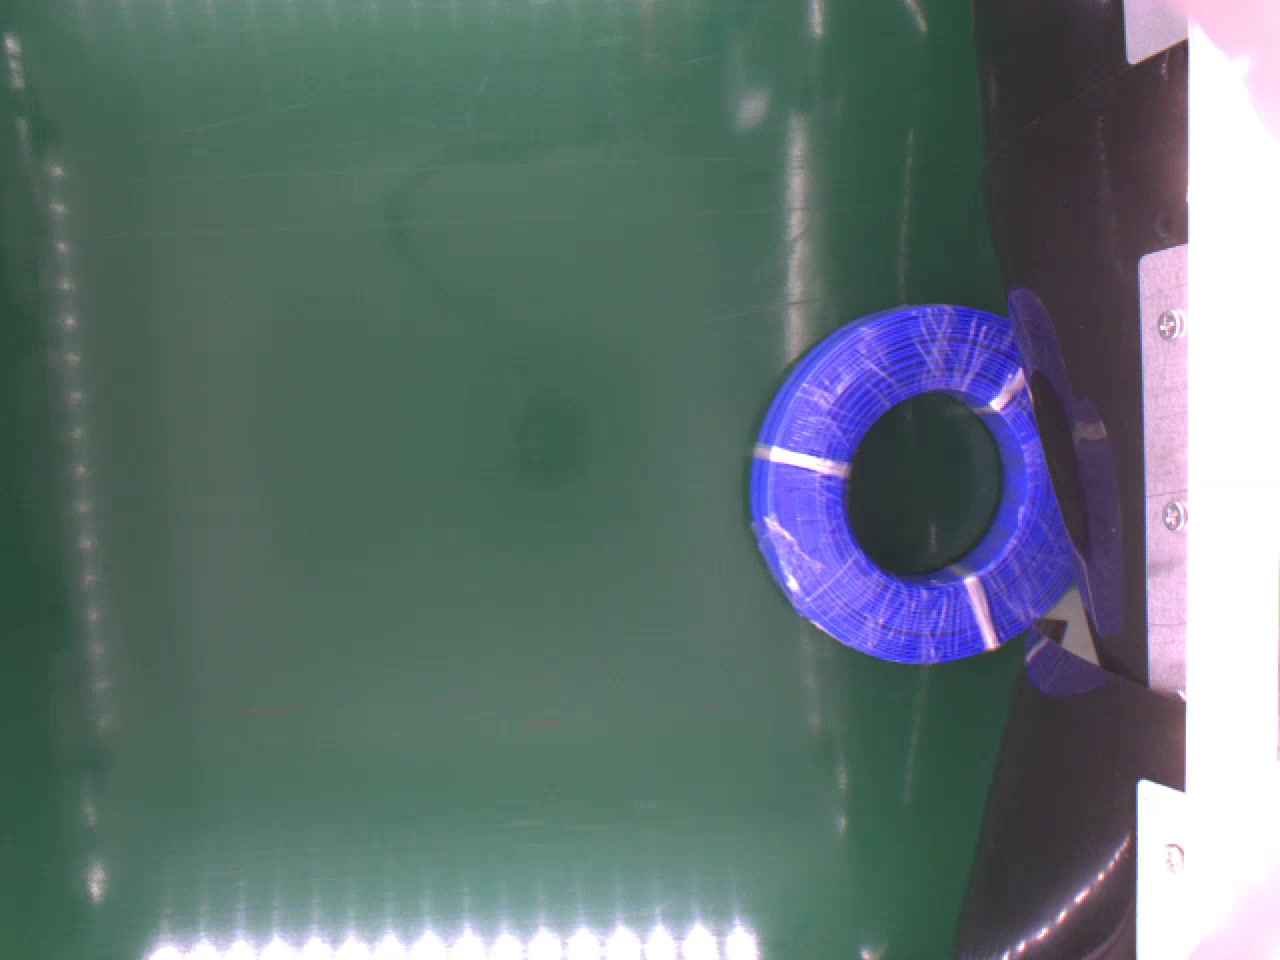blue: (746, 302, 1080, 663)
